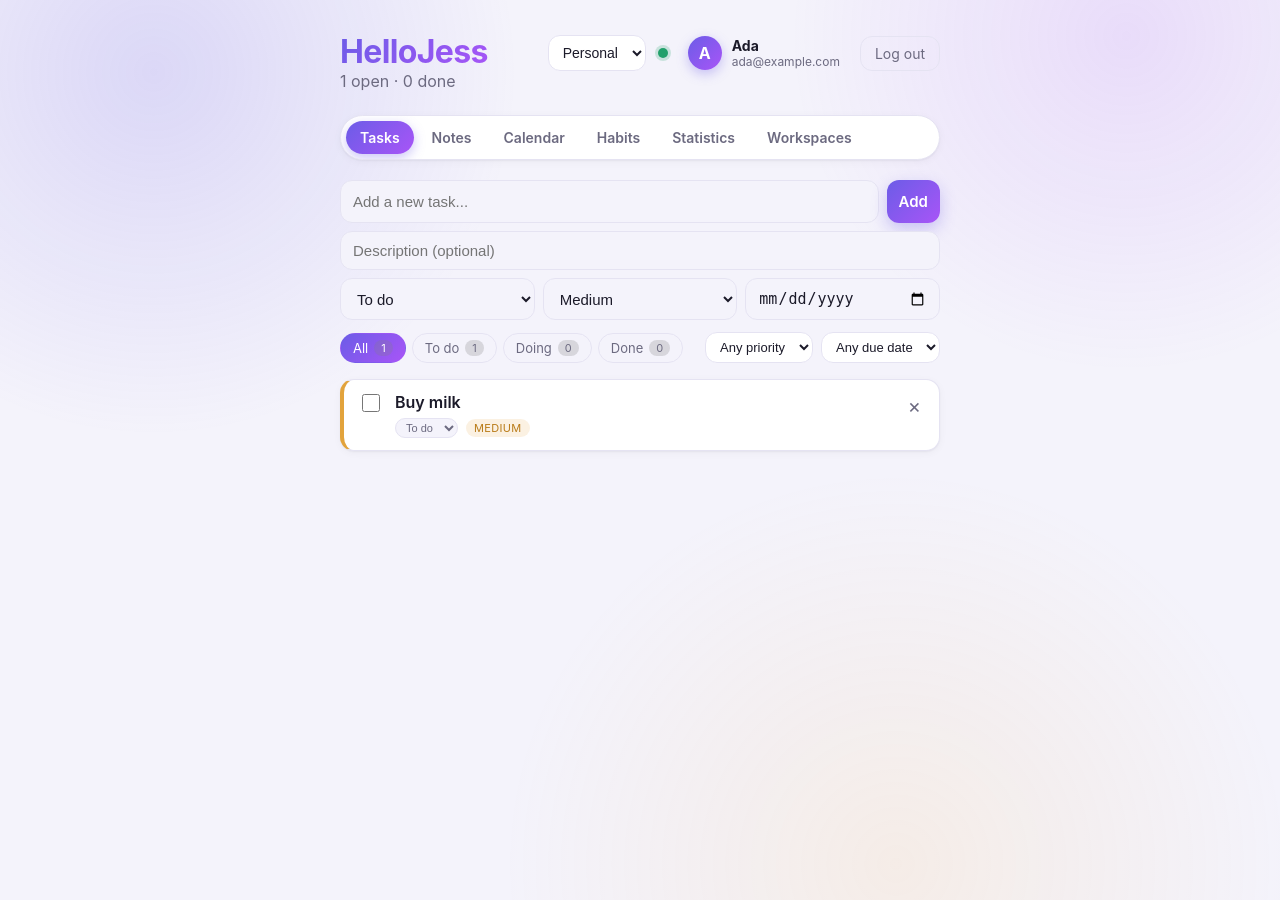
Test case: Tasks page › adds a task through the form and clears it
The width and height of the screenshot is (1280, 900).
Expected: the link "Buy milk" is shown, [395,392,461,412]
Type "Call the bank" into the field named "Title" at (609, 202), box [340,180,879,223]
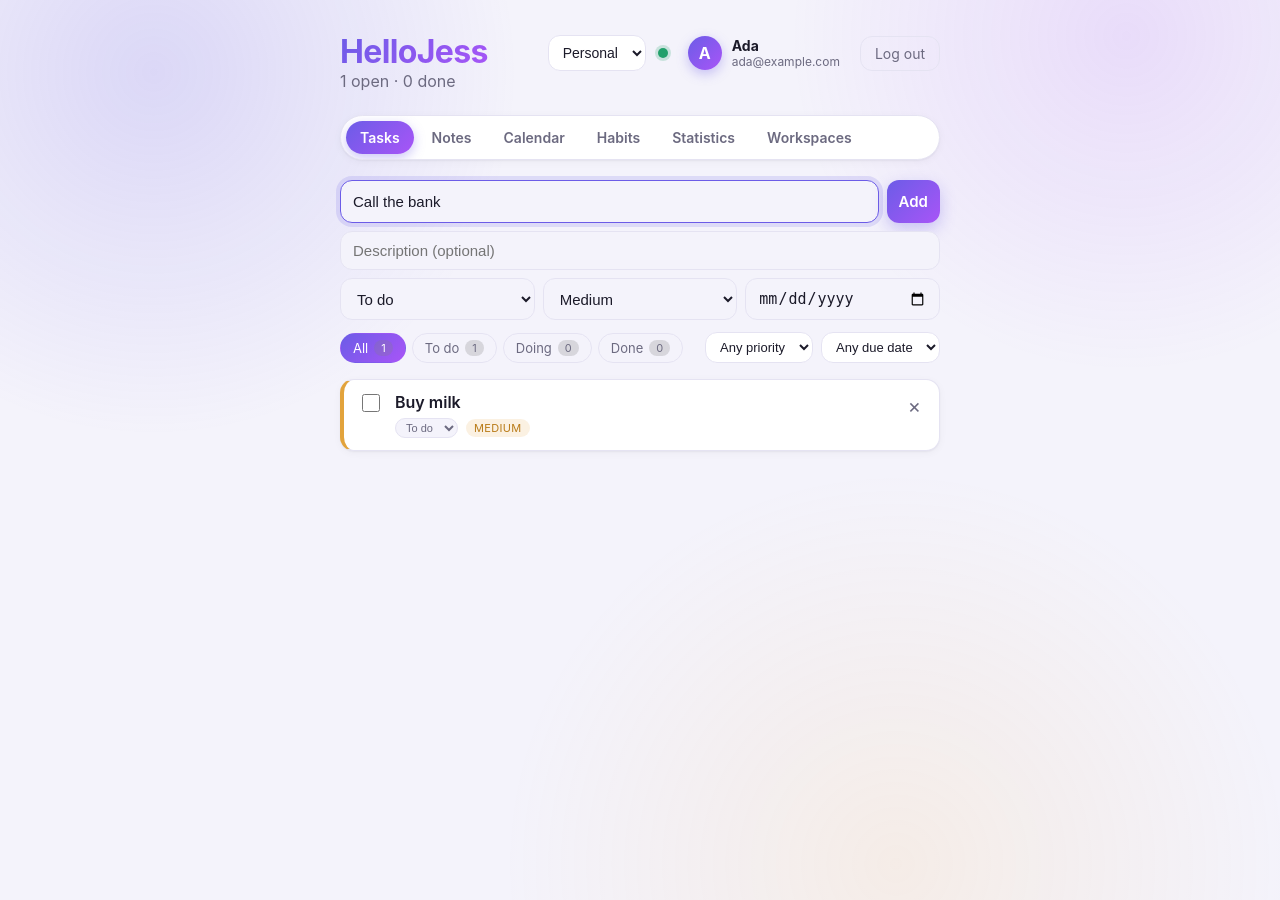
Click the button "Add" at (913, 202), box [887,180,940,223]
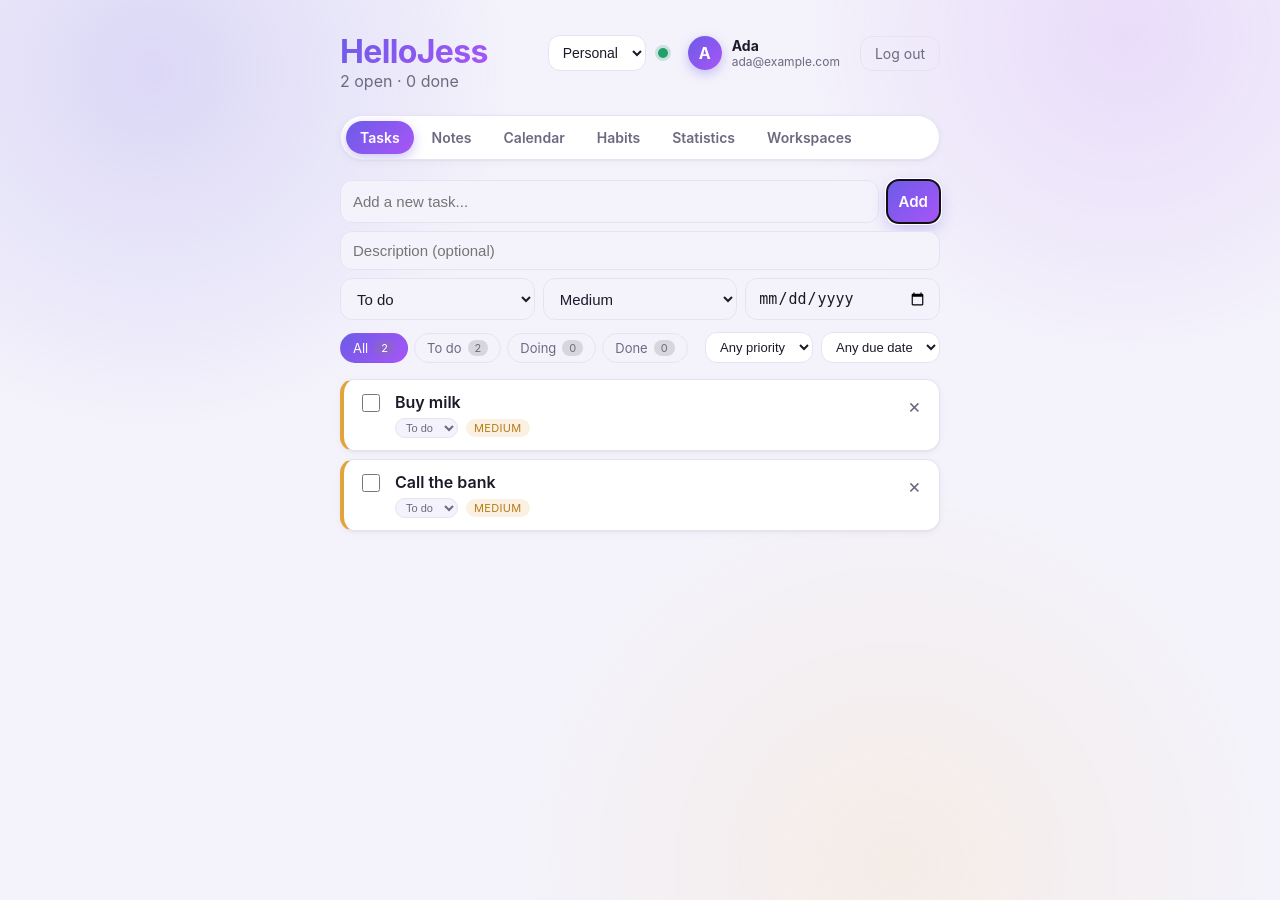
Expected: the link "Call the bank" is shown, [395,472,496,492]
Expected: the field named "Title" is empty, [340,180,879,223]
